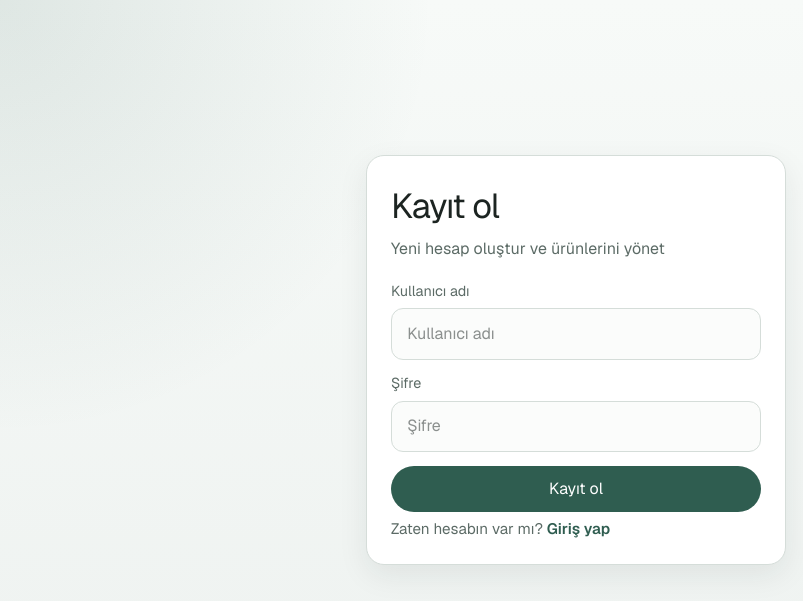
Test case: RegisterPage › should show error when backend cannot be reached
Type "fatih" into the field labelled "Kullanıcı adı" at (576, 334), box [391,308,761,360]
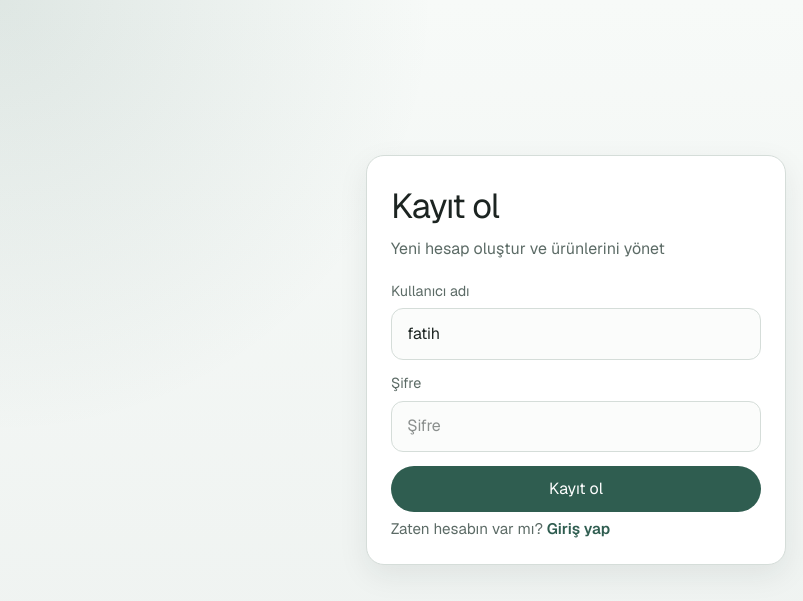
Type "123456" into the password field labelled "Şifre" at (576, 426), box [391,400,761,452]
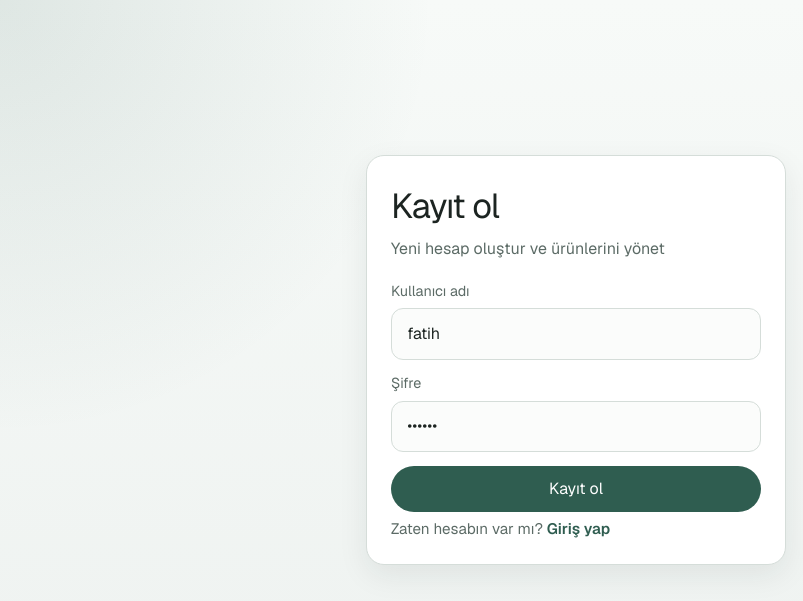
Click the button "Kayıt ol" at (576, 489), box [391,466,761,512]
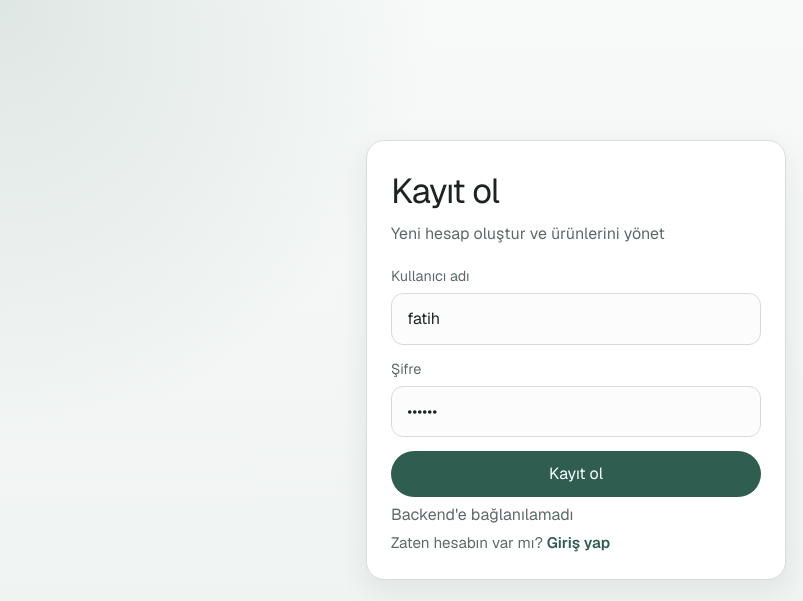
Check: the text "Backend'e bağlanılamadı" is shown, box [391,504,573,525]
